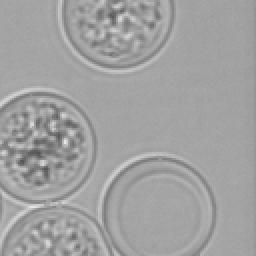picoshell: (96, 152, 216, 254), (0, 88, 96, 204), (56, 0, 174, 72), (0, 198, 116, 254)
